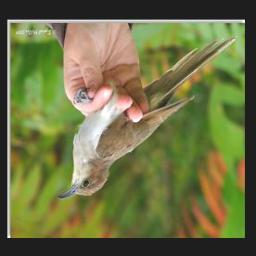Cuckoo: (58, 38, 238, 203)
